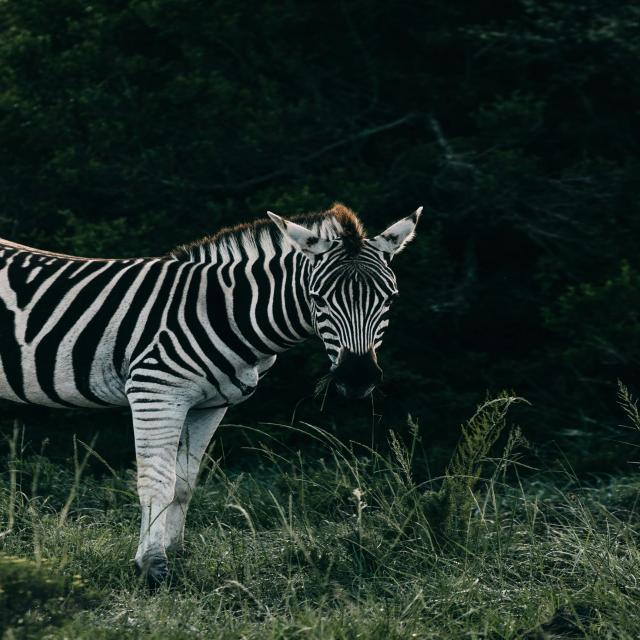Zebra: (0, 202, 427, 576)
